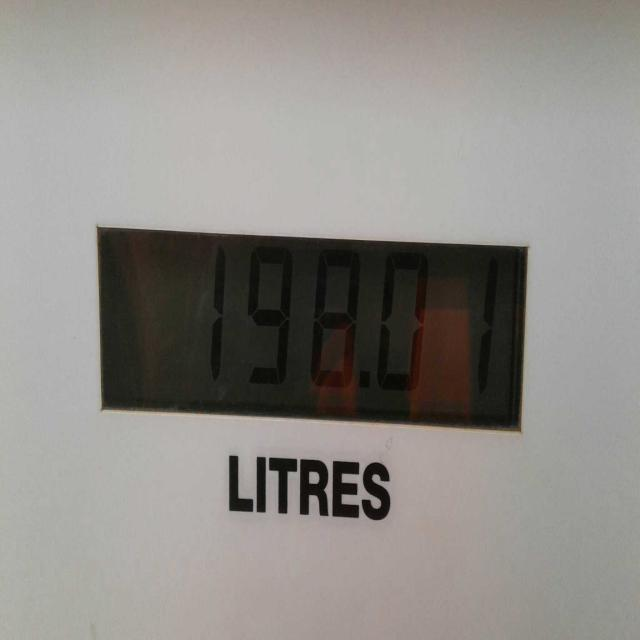.: (344, 357, 376, 402)
0: (374, 252, 443, 407)
1: (457, 253, 518, 392), (202, 235, 237, 388)
8: (298, 242, 357, 398)
9: (238, 240, 302, 398)
